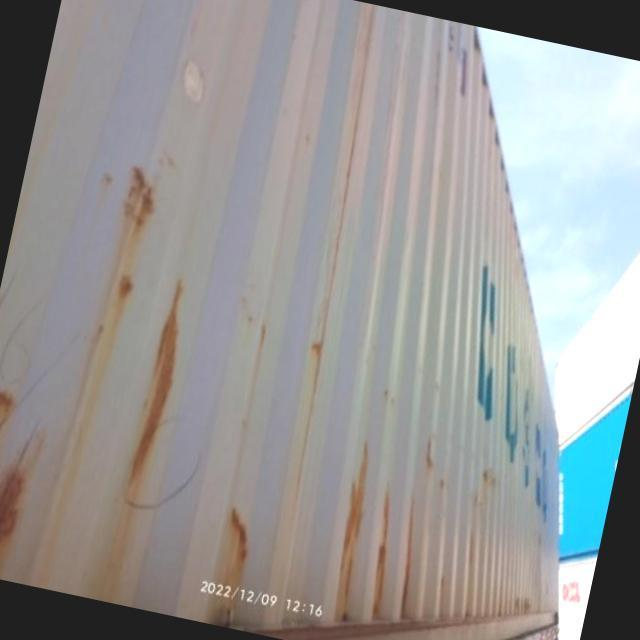rust: (132, 292, 192, 471), (213, 502, 262, 559), (343, 466, 374, 529), (123, 180, 158, 223), (424, 437, 455, 470)
